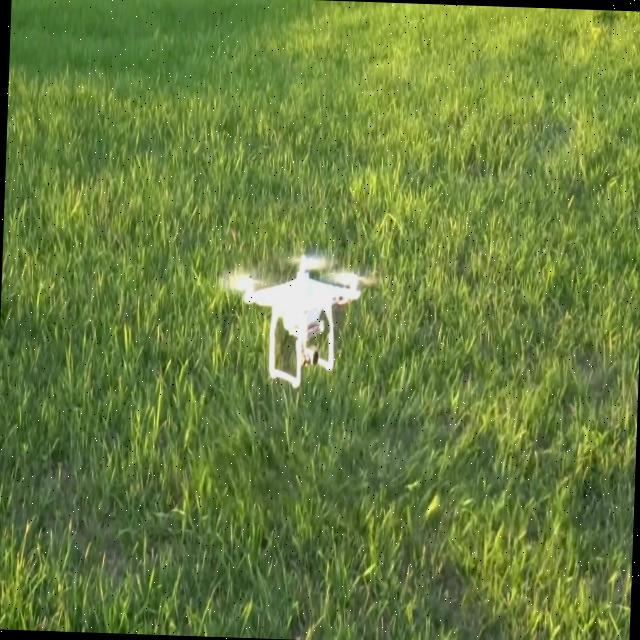drone: (219, 245, 374, 388)
